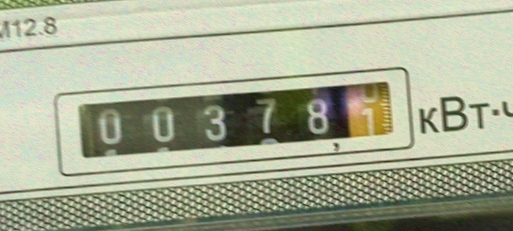0: (96, 104, 125, 145), (149, 102, 176, 142), (357, 80, 380, 103)
1: (358, 103, 378, 136)
3: (201, 101, 228, 142)
7: (253, 94, 278, 134)
8: (304, 94, 330, 135)
screen: (57, 62, 412, 168)
